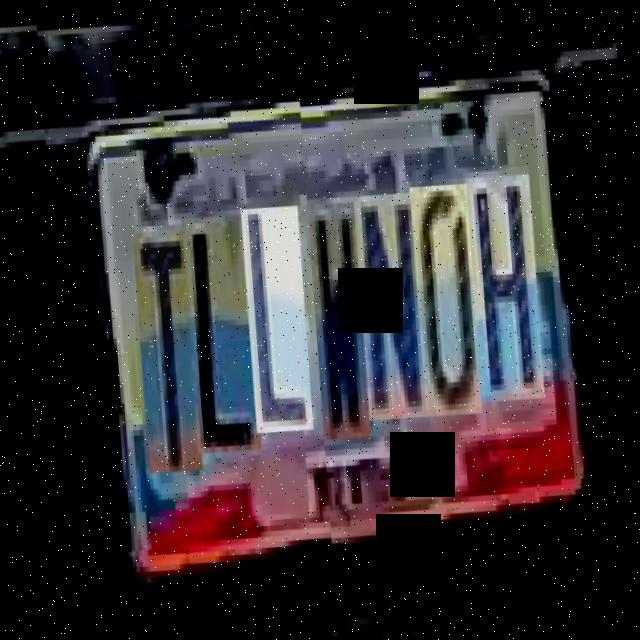0: (406, 175, 486, 410)
H: (462, 164, 548, 395)
L: (179, 212, 265, 453), (238, 203, 317, 432)
N: (350, 183, 436, 414)
T: (130, 227, 207, 473)
W: (305, 194, 374, 433)
